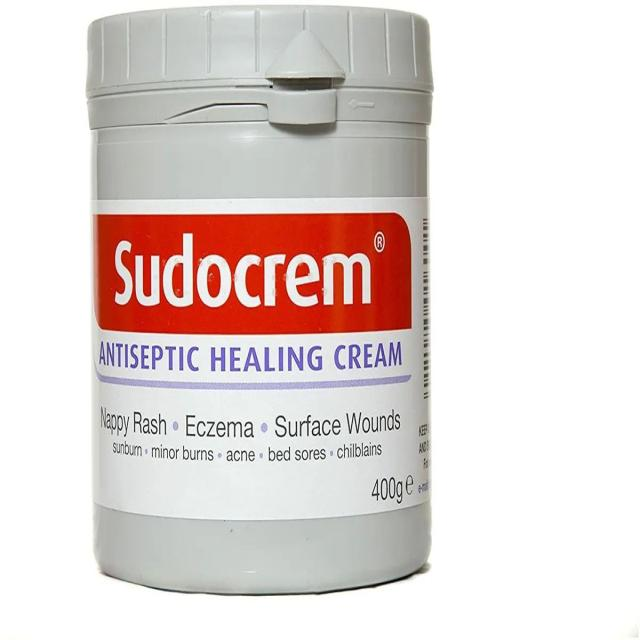lotion-moisture: (93, 199, 436, 532)
